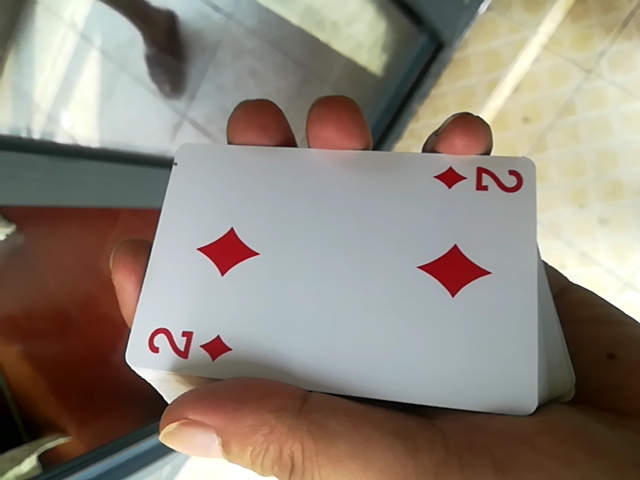fk 2: (117, 72, 540, 427)
